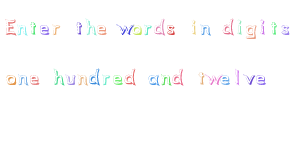E: (1, 14, 17, 39)
a: (145, 68, 161, 90)
d: (170, 61, 187, 90), (219, 15, 236, 39), (122, 65, 138, 89), (87, 64, 101, 89), (152, 14, 166, 37)
e: (254, 68, 269, 90), (27, 69, 43, 89), (218, 71, 232, 88), (112, 71, 125, 89), (95, 21, 108, 38), (38, 21, 49, 38)
g: (243, 22, 258, 44)
h: (48, 64, 66, 88), (84, 14, 97, 42)
i: (187, 16, 200, 38), (258, 15, 268, 38), (234, 16, 245, 36)
l: (230, 66, 244, 87)
n: (16, 69, 29, 90), (76, 70, 89, 89), (159, 70, 172, 89), (198, 22, 213, 38), (16, 22, 28, 40)
o: (3, 70, 19, 89), (130, 22, 143, 40)
r: (48, 20, 66, 39), (141, 19, 153, 39), (100, 71, 112, 88)
s: (279, 19, 294, 41), (165, 23, 179, 39)
t: (71, 17, 85, 38), (27, 16, 39, 38), (194, 68, 206, 88), (268, 20, 280, 38)
u: (63, 71, 76, 87)
v: (241, 70, 255, 86)
w: (112, 20, 134, 39), (205, 71, 222, 88)
